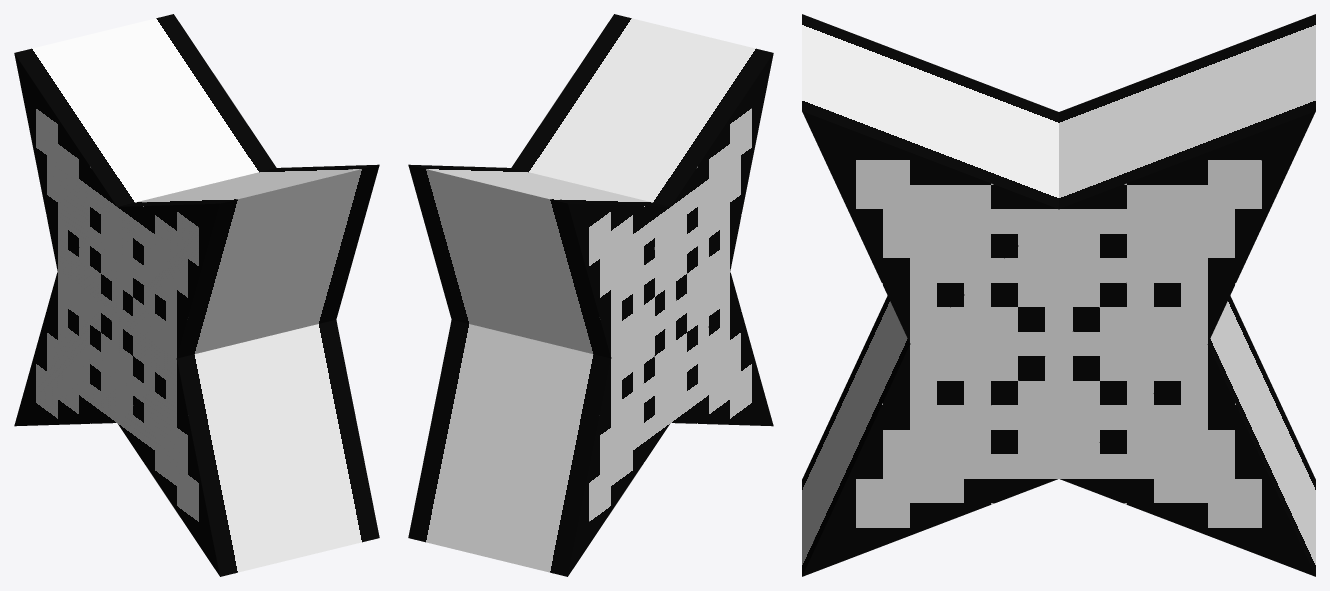
File: star.gltf
3 renders of one model, left to right at view 1: azimuth 30°, elevation 25°; view 2: azimuth 150°, elevation 25°; view 3: azimuth 270°, elevation 25°, orthographic. The views are drawn at different scales.
Parts seen in each view (by area): view 1: cuboid; view 2: cuboid; view 3: cuboid.
Boxes of the visible parts, left/top/right/bottom form: cuboid: left=14, top=14, right=379, bottom=576; cuboid: left=408, top=14, right=773, bottom=576; cuboid: left=802, top=14, right=1315, bottom=576.
Size of the model in its own units: 0.5312 by 1.19 by 1.19.
1 material, 1 textured.
